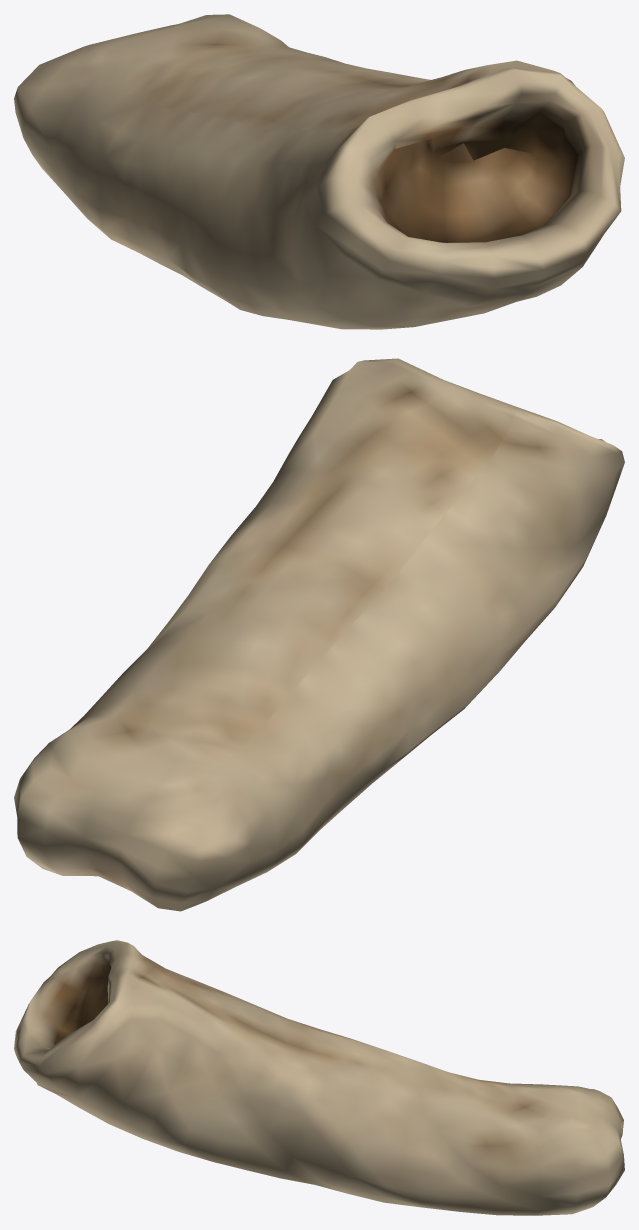
The model's file is Lower_Incisor4.glb.
The picture shows the model from 3 angles, top to bottom: view 1: azimuth 30°, elevation 25°; view 2: azimuth 150°, elevation 25°; view 3: azimuth 270°, elevation 25°; orthographic projection. The views are drawn at different scales.
Parts seen in each view (by area): view 1: Group26610_Mesh.006; view 2: Group26610_Mesh.006; view 3: Group26610_Mesh.006.
Boxes of the visible parts, x1,y1,x2,y2 form: Group26610_Mesh.006: (14,14,624,329); Group26610_Mesh.006: (14,358,624,911); Group26610_Mesh.006: (14,940,624,1215).
Bounding box in the file's own units: 0.0137 × 0.0139 × 0.0331.
Materials: 1 (1 with a texture image).
